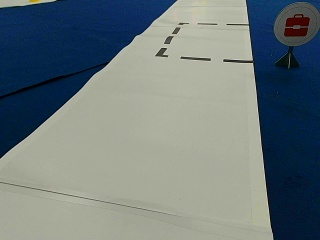company: (274, 2, 319, 45)
